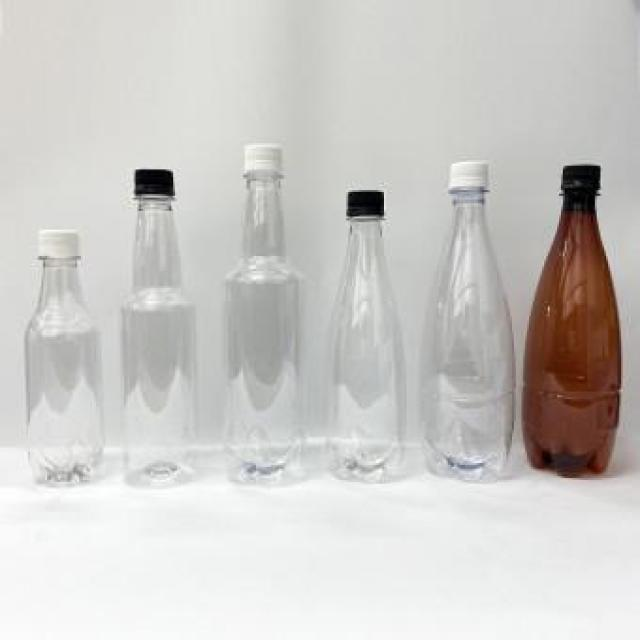bottle: (515, 157, 638, 498), (426, 158, 526, 491), (16, 221, 119, 493)
